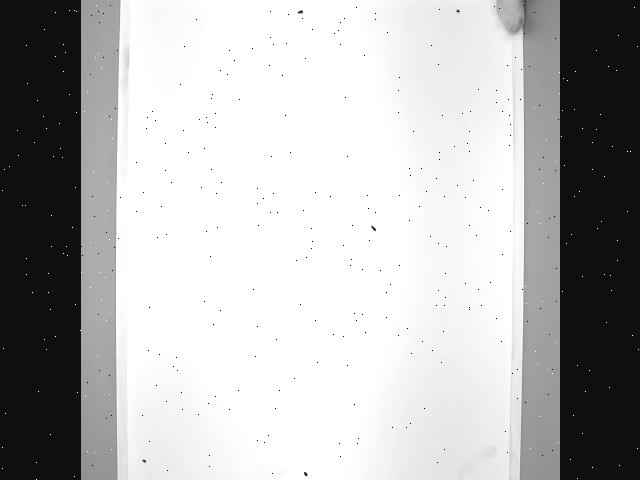Tikus: (495, 0, 533, 35)
